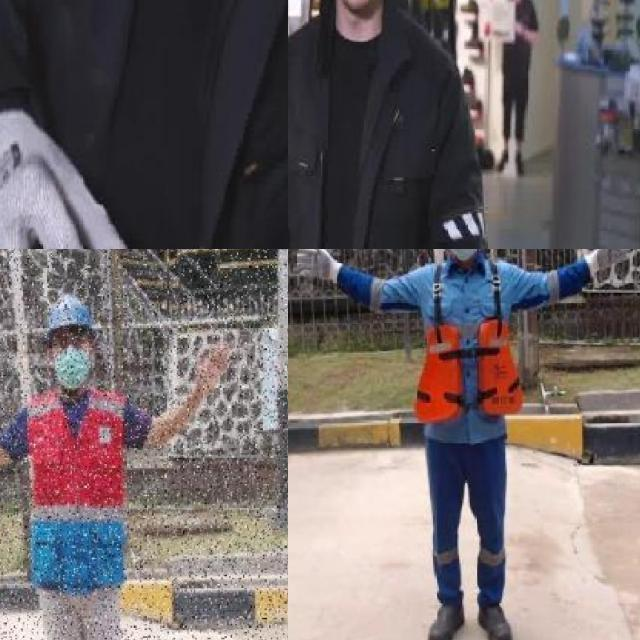apron: (0, 104, 131, 249), (293, 249, 346, 292), (583, 249, 630, 283)
